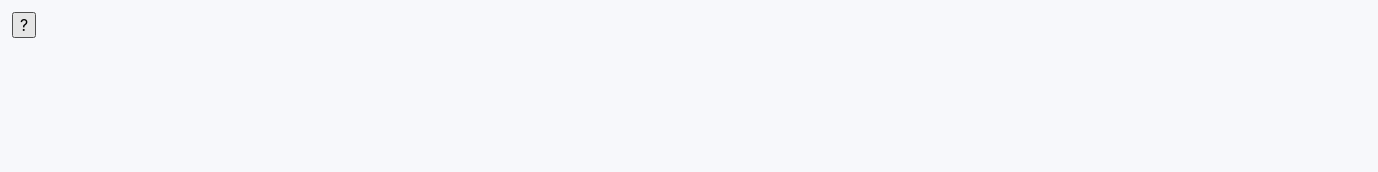
Test: FieldHelp › 展开后点击组件外部关闭
Click the button with class "training-field-help-button": (24, 25) [12,12,36,38]
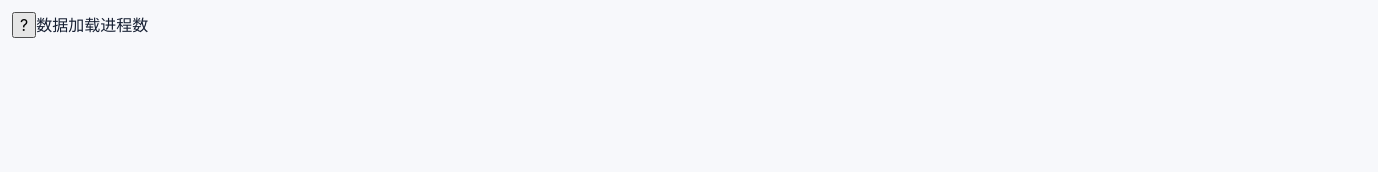
Now the text with class "training-field-help-bubble" reads "数据加载进程数", box [36,15,148,35]
Press the mouse on the element showing "? 数据加载进程数": (695, 25) [12,12,1377,38]
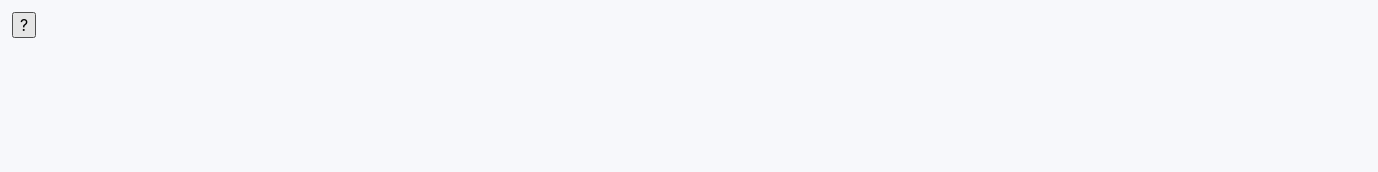
Now the text with class "training-field-help-bubble" is gone
